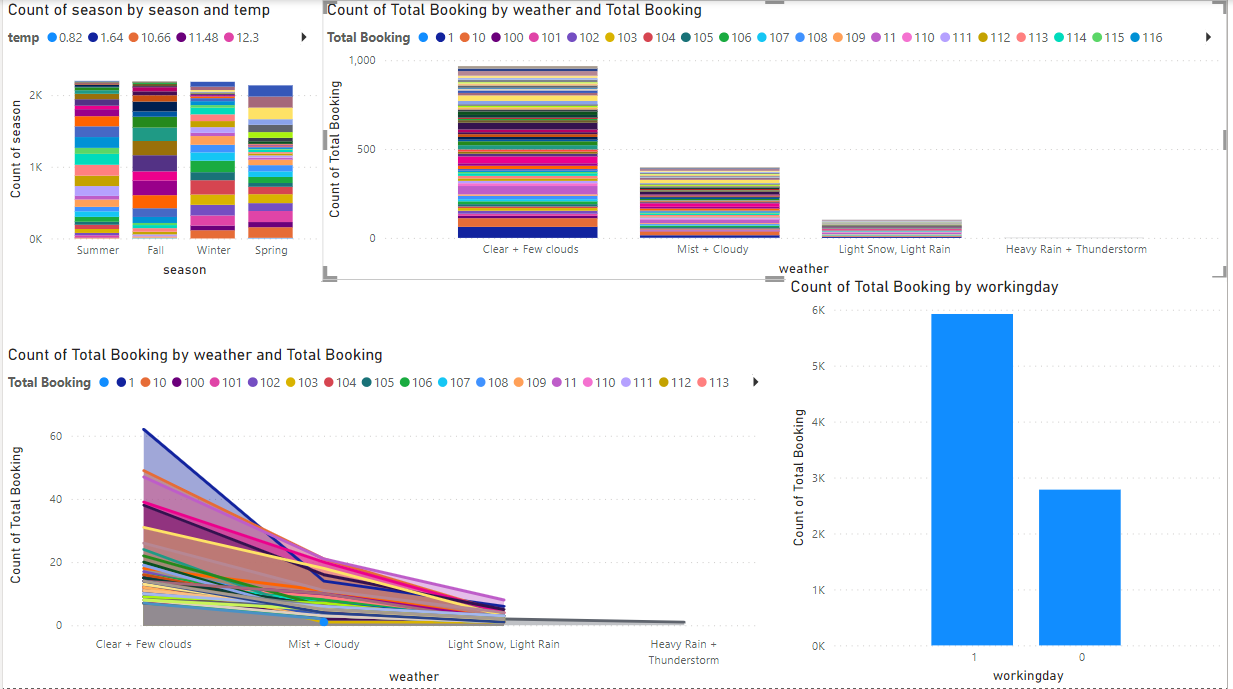

The page's visual inventory and layout, read from the dashboard file:
{"tool":"powerbi","page":{"name":"Page 2","canvas":[1280,720],"ordinal":1},"visuals":[{"type":"columnChart","fields":{"Category":["Forecast Cab Booking Dimand.weather"],"Series":["Forecast Cab Booking Dimand.Total Booking"],"Y":["CountNonNull(Forecast Cab Booking Dimand.Total Booking)"]},"box":[333.8,0,946.1,293.6],"z":1},{"type":"columnChart","fields":{"Category":["Forecast Cab Booking Dimand.workingday"],"Y":["CountNonNull(Forecast Cab Booking Dimand.Total Booking)"]},"box":[818.6,290.2,461.3,429.5],"z":2},{"type":"areaChart","fields":{"Category":["Forecast Cab Booking Dimand.weather"],"Series":["Forecast Cab Booking Dimand.Total Booking"],"Y":["CountNonNull(Forecast Cab Booking Dimand.Total Booking)"]},"box":[0,360.7,806.9,359],"z":3},{"type":"columnChart","fields":{"Category":["Forecast Cab Booking Dimand.season"],"Series":["Forecast Cab Booking Dimand.temp"],"Y":["CountNonNull(Forecast Cab Booking Dimand.season)"]},"box":[0,0,334,294],"z":4}]}

Visuals, with their boxes in screenshot pixels (x1, y1, x2, y2), scaled from the page's 1280x720 canvas onto the 1233x689 screenshot:
columnChart - Forecast Cab Booking Dimand.weather x Forecast Cab Booking Dimand.Total Booking: left=322, top=0, right=1232, bottom=281
columnChart - Forecast Cab Booking Dimand.workingday x CountNonNull(Forecast Cab Booking Dimand.Total Booking): left=789, top=278, right=1232, bottom=688
areaChart - Forecast Cab Booking Dimand.weather x Forecast Cab Booking Dimand.Total Booking: left=0, top=345, right=777, bottom=688
columnChart - Forecast Cab Booking Dimand.season x Forecast Cab Booking Dimand.temp: left=0, top=0, right=322, bottom=281
